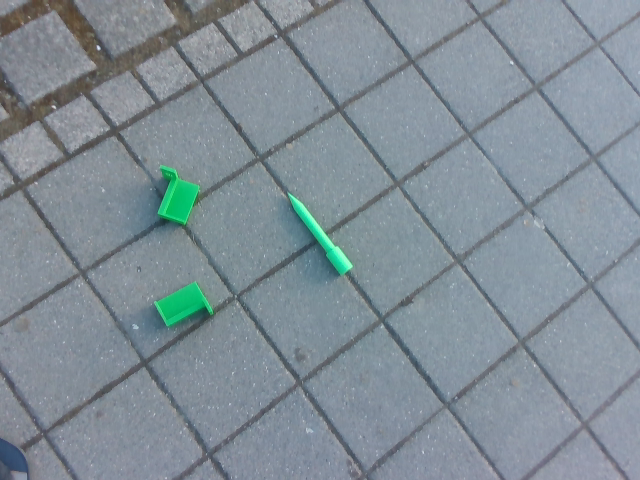Probe: (280, 185, 358, 279)
